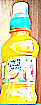orange: (1, 1, 37, 104)
